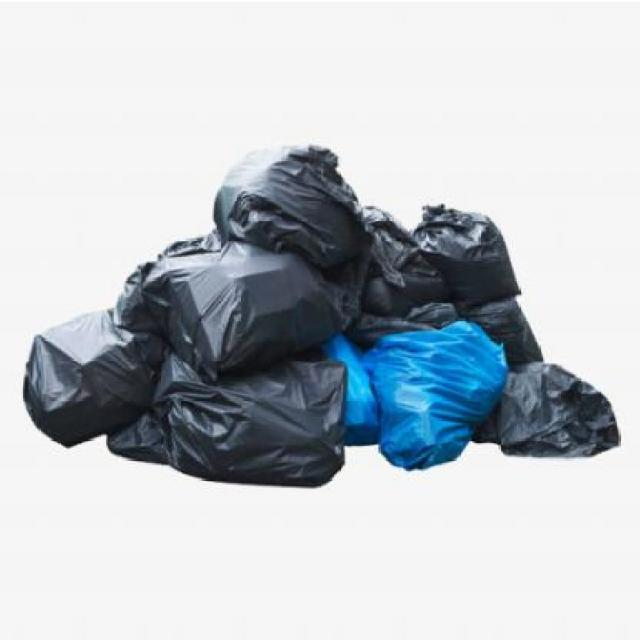garbage: (9, 80, 634, 554)
